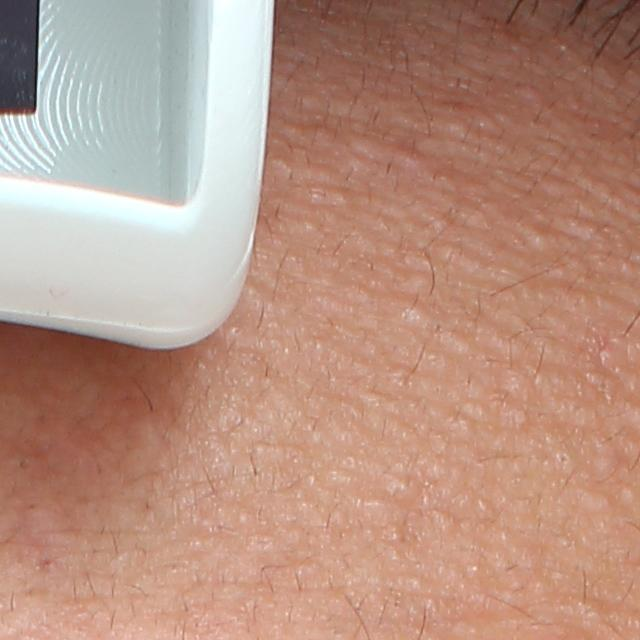comedo: (523, 221, 561, 256), (398, 300, 438, 331), (548, 444, 576, 479), (386, 470, 421, 497)
